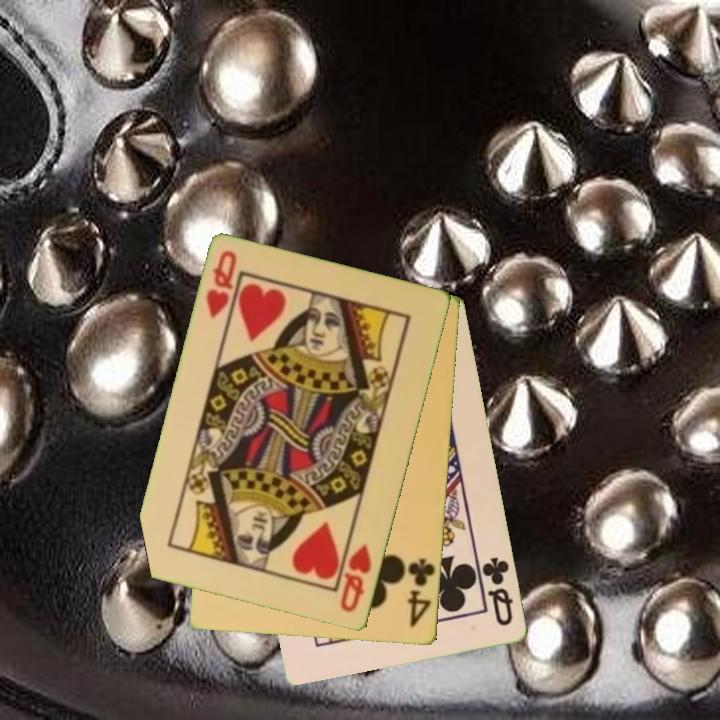4c: (405, 555, 438, 630)
Qc: (479, 553, 517, 629)
Qh: (337, 541, 375, 616), (203, 247, 240, 322)
